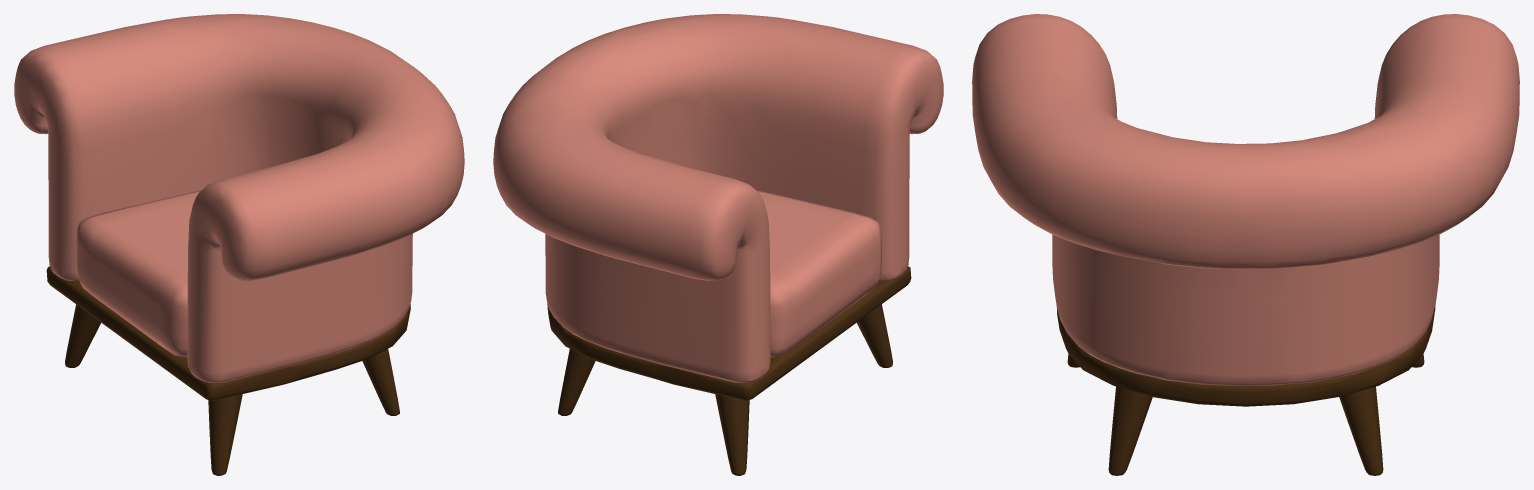
Rendered from armchair_09_salmon.fbx.
3 renders of one model, left to right at view 1: azimuth 30°, elevation 25°; view 2: azimuth 150°, elevation 25°; view 3: azimuth 270°, elevation 25°, orthographic. The views are drawn at different scales.
Parts seen in each view (by area): view 1: armchair_09_salmon; view 2: armchair_09_salmon; view 3: armchair_09_salmon.
Boxes of the visible parts, x1,y1,x2,y2 form: armchair_09_salmon: (14,14,464,475); armchair_09_salmon: (493,14,943,475); armchair_09_salmon: (972,14,1519,475).
Bounding box in the file's own units: 106 × 102 × 145.
Materials: 2 (2 with a texture image).
